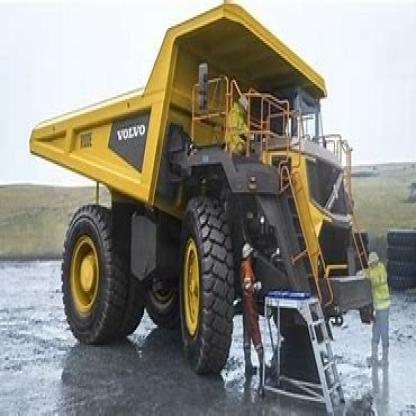dump_truck: (38, 6, 390, 378)
person: (354, 235, 400, 397), (239, 244, 270, 375)
